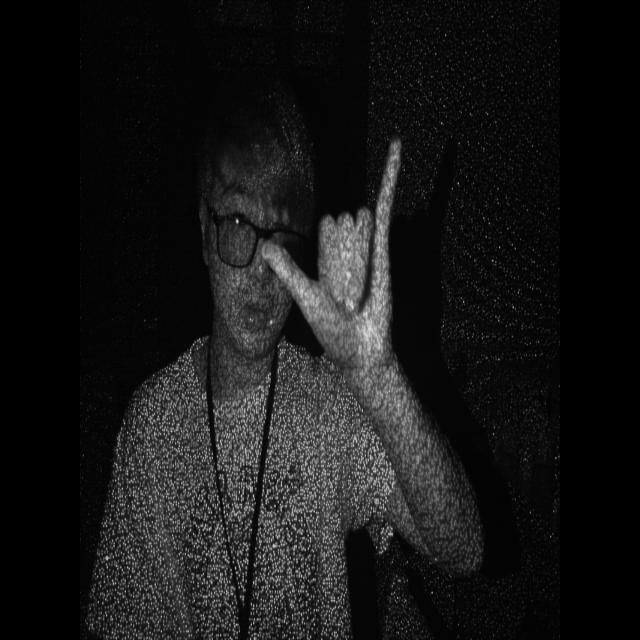Y: (255, 119, 421, 380)
